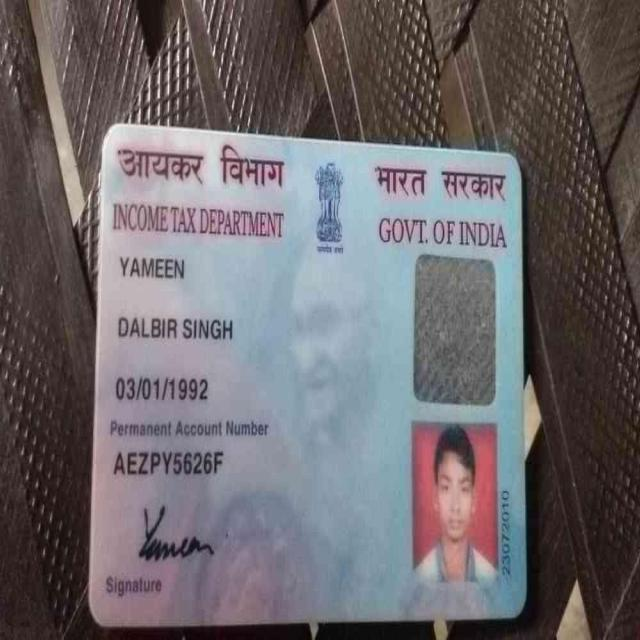pan_card: (94, 141, 514, 612)
